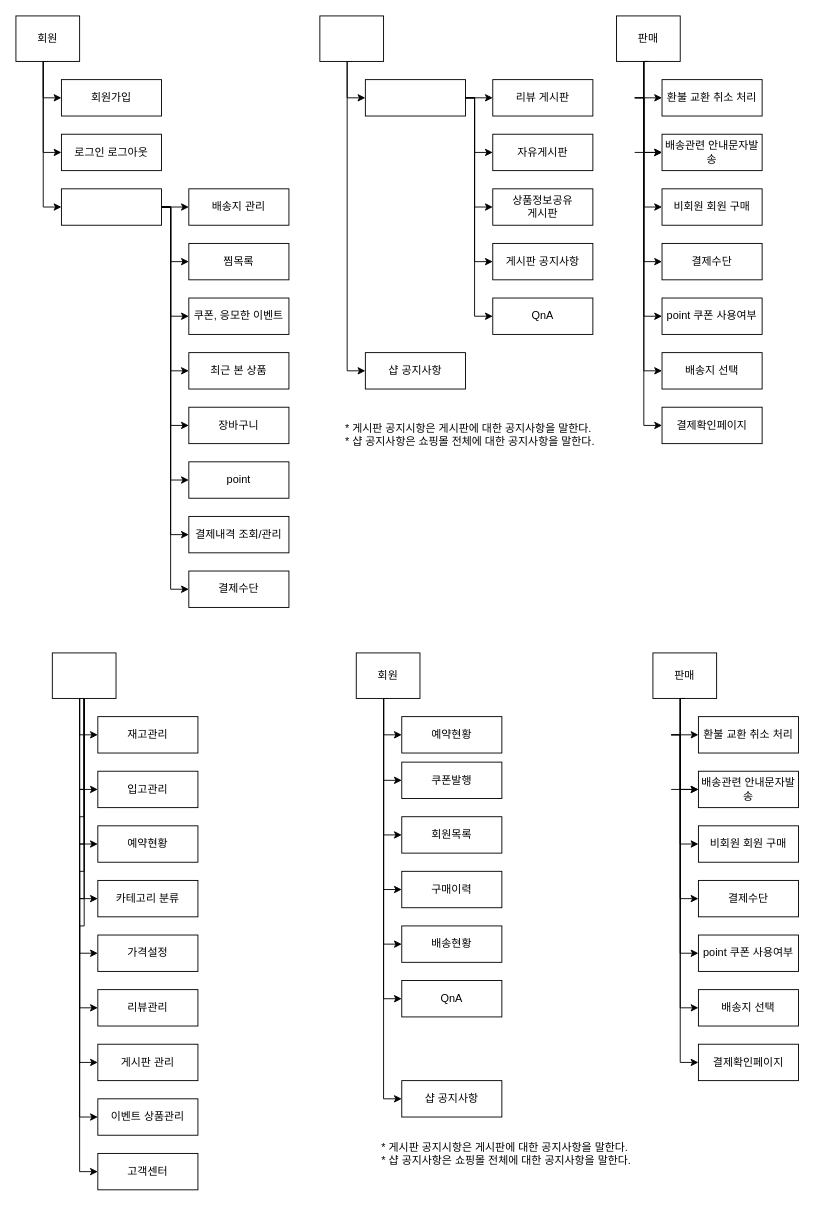
This 814x1213 diagram has some shape labels left out. Each missing label, with the centre of its shape:
게시판: the point at 414,97
마이페이지: the point at 111,206
상품: the point at 83,675
커뮤니티: the point at 351,38
